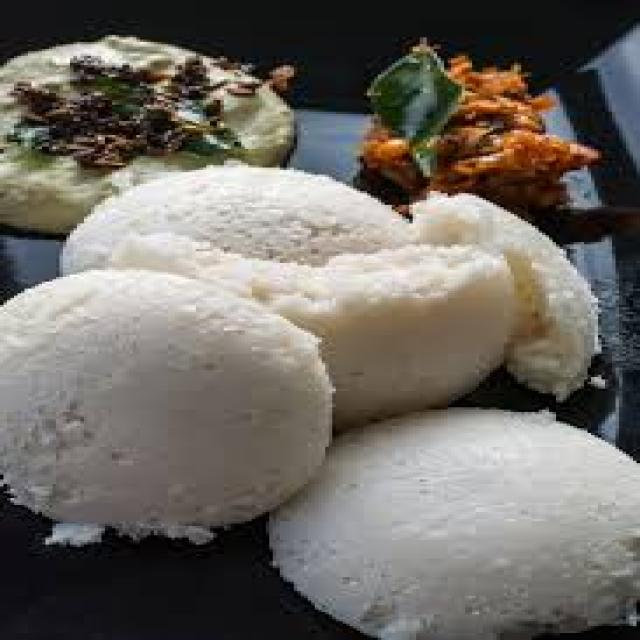IDLI: (0, 268, 337, 535), (266, 408, 637, 637), (141, 234, 506, 421), (59, 166, 406, 273)
